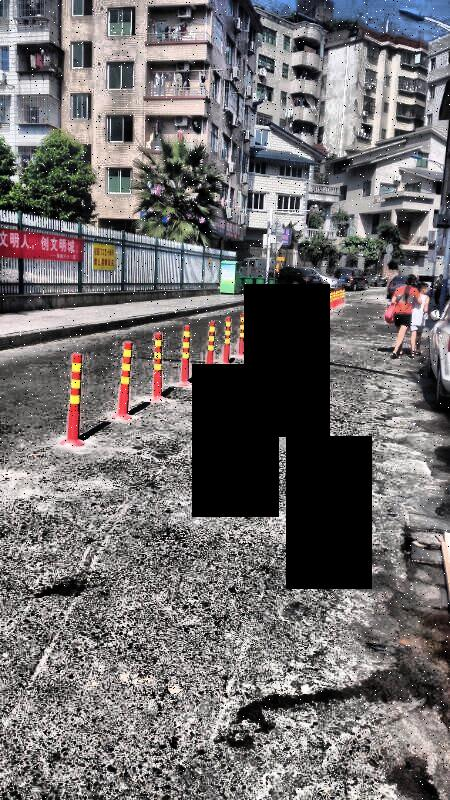bench: (59, 350, 87, 449), (108, 336, 134, 424), (150, 327, 168, 406)
